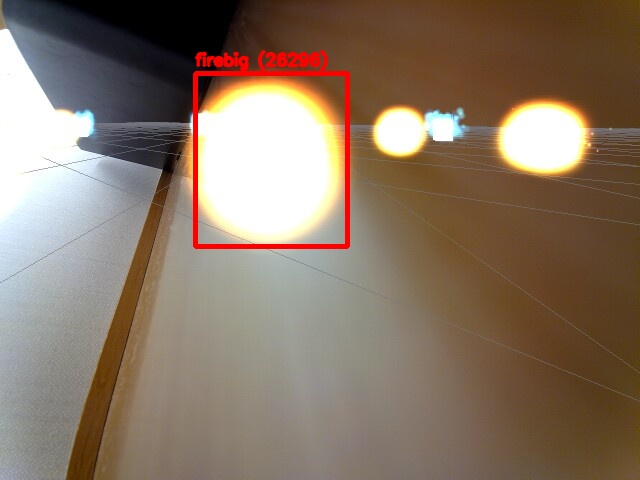firebig: (195, 73, 347, 246)
